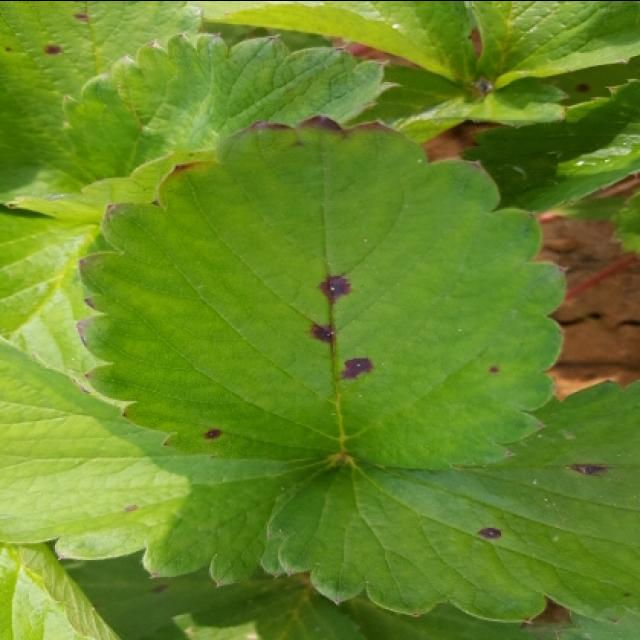Leaf Spot: (76, 113, 568, 471), (268, 376, 638, 626), (0, 336, 340, 588), (0, 2, 203, 199), (44, 536, 304, 640), (545, 55, 638, 105)
